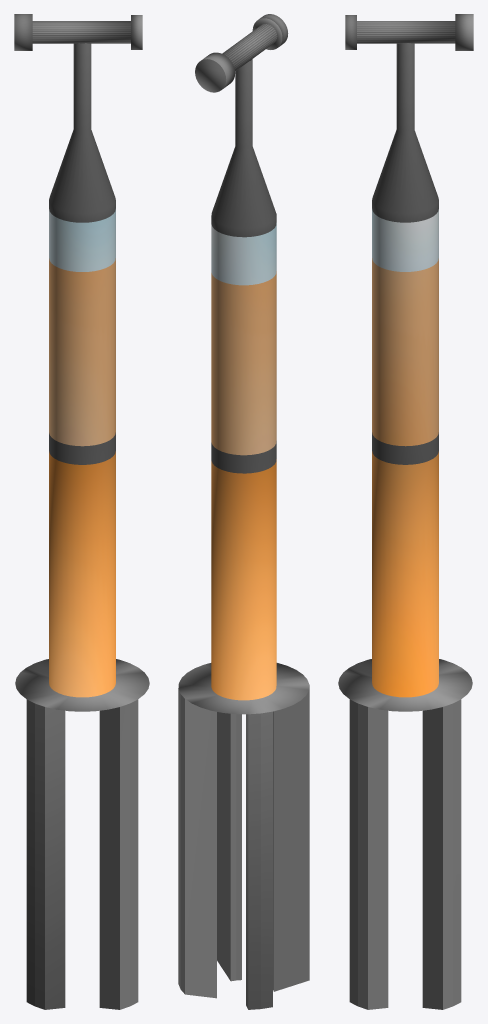
File: Torre de Absorción.fbx
The picture shows the model from 3 angles, left to right: view 1: azimuth 90°, elevation 25°; view 2: azimuth 150°, elevation 25°; view 3: azimuth 270°, elevation 25°; orthographic projection. The views are drawn at different scales.
Visible parts, largest first — view 1: Cylinder; view 2: Cylinder; view 3: Cylinder.
Part boxes in pixels (<box>): Cylinder: <box>14,14,149,1009</box>; Cylinder: <box>178,14,309,1009</box>; Cylinder: <box>338,14,473,1009</box>.
Size of the model in its own units: 58.8 by 473 by 59.21.
